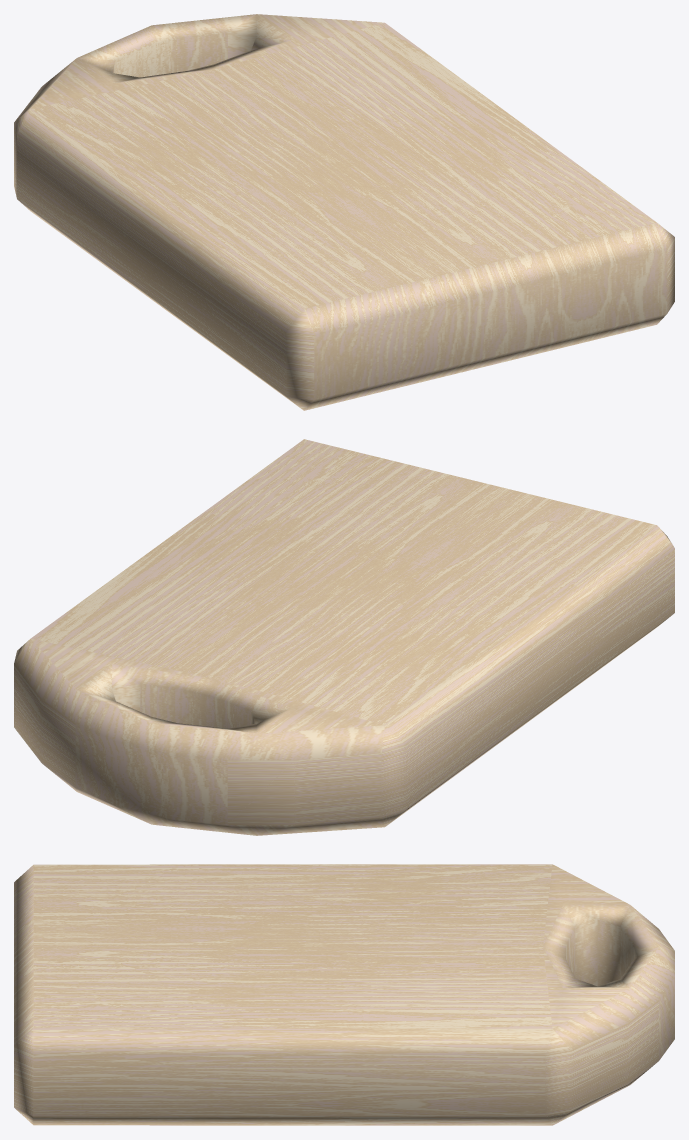
File: prop_018.fbx
The picture shows the model from 3 angles, top to bottom: view 1: azimuth 30°, elevation 25°; view 2: azimuth 150°, elevation 25°; view 3: azimuth 270°, elevation 25°; orthographic projection. The views are drawn at different scales.
Visible parts, largest first — view 1: prop_018; view 2: prop_018; view 3: prop_018.
Part boxes in pixels (x1,y1,x2,y2): prop_018: (14,14,674,410); prop_018: (14,439,674,835); prop_018: (14,864,674,1125).
Size of the model in its own units: 26.18 by 40.55 by 6.57.
